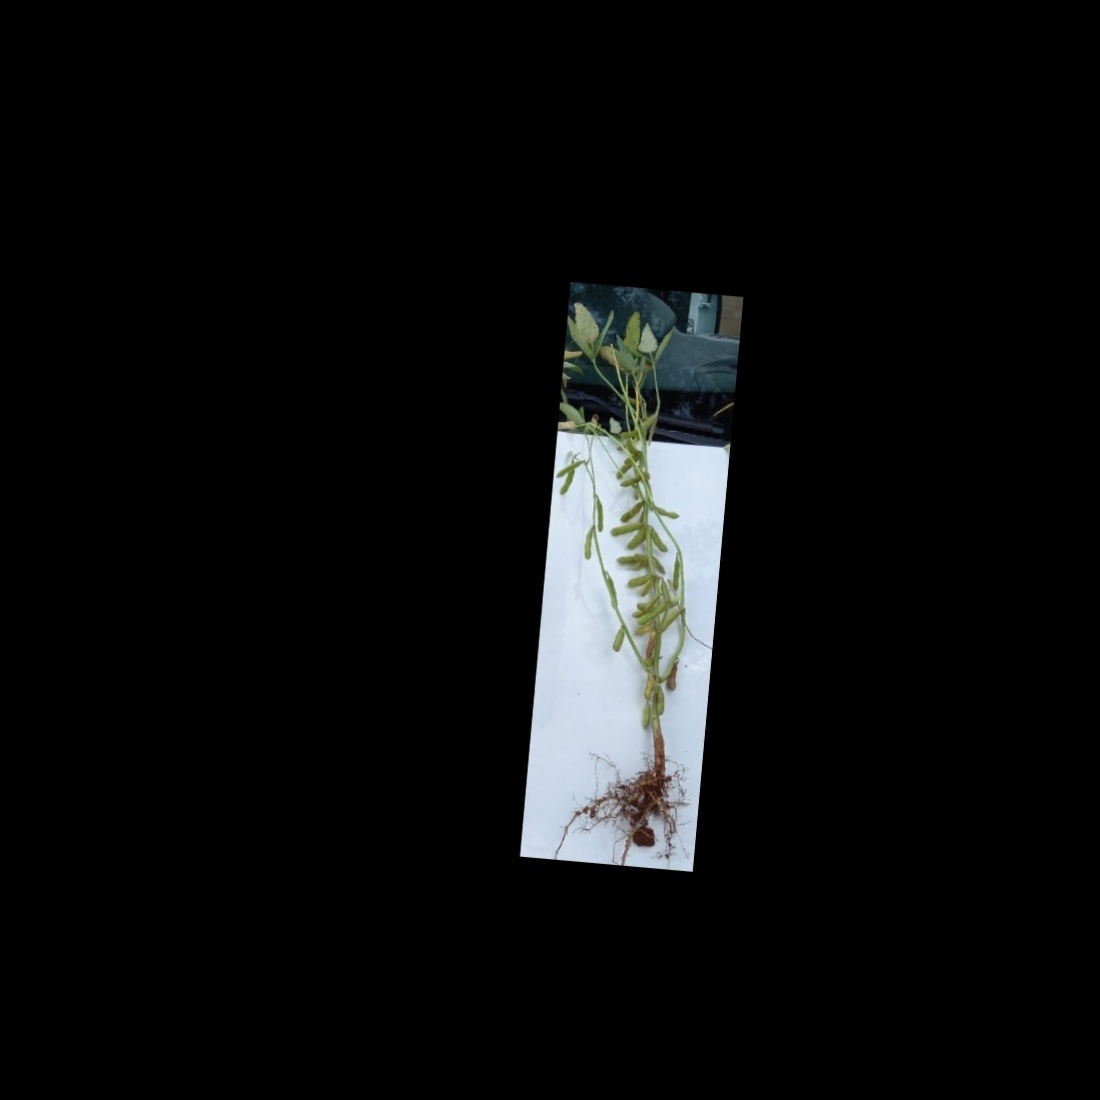pod: (634, 601, 666, 630), (646, 524, 672, 558), (608, 519, 646, 539), (578, 522, 596, 563), (617, 497, 644, 525), (605, 623, 627, 656), (664, 656, 681, 695), (667, 553, 683, 592), (654, 502, 683, 523), (624, 569, 651, 591), (593, 496, 607, 533)
soy: (528, 304, 731, 850)
